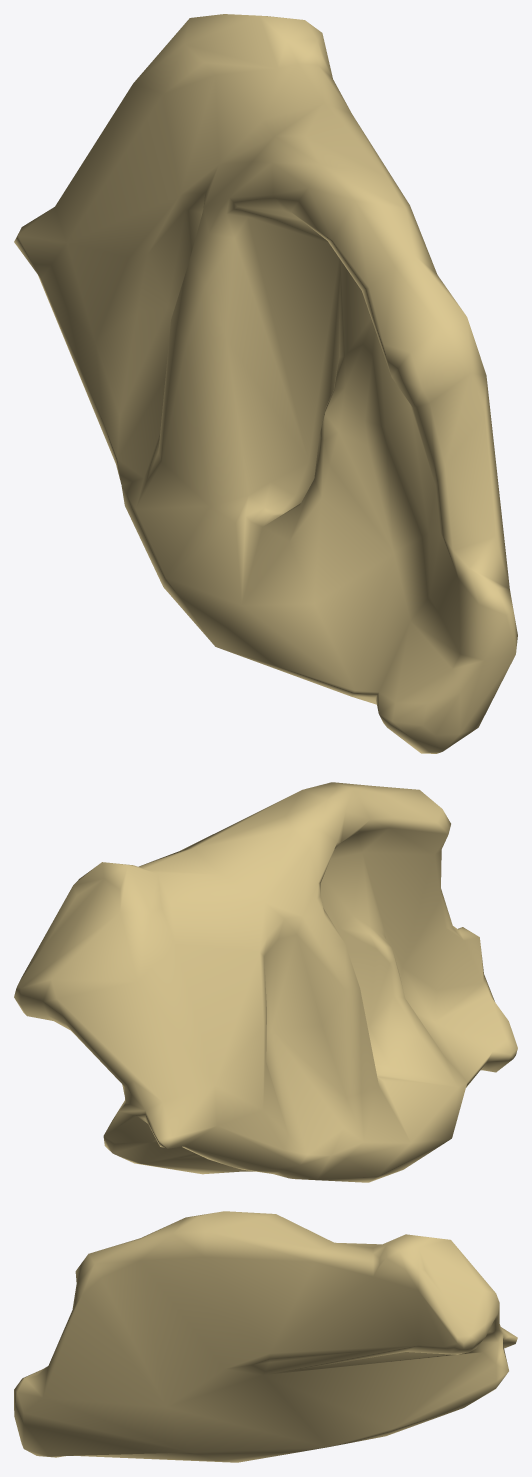
3 views of the same model, one above another, from view 1: azimuth 30°, elevation 25°; view 2: azimuth 150°, elevation 25°; view 3: azimuth 270°, elevation 25° (orthographic). The views are drawn at different scales.
Parts seen in each view (by area): view 1: 左侧泪骨; view 2: 左侧泪骨; view 3: 左侧泪骨.
Part boxes in pixels (x1=…): 左侧泪骨: x1=14, y1=14, x2=517, y2=753; 左侧泪骨: x1=14, y1=782, x2=517, y2=1182; 左侧泪骨: x1=14, y1=1211, x2=517, y2=1462.
Size of the model in its own units: 0.0157 by 0.0217 by 0.037.
